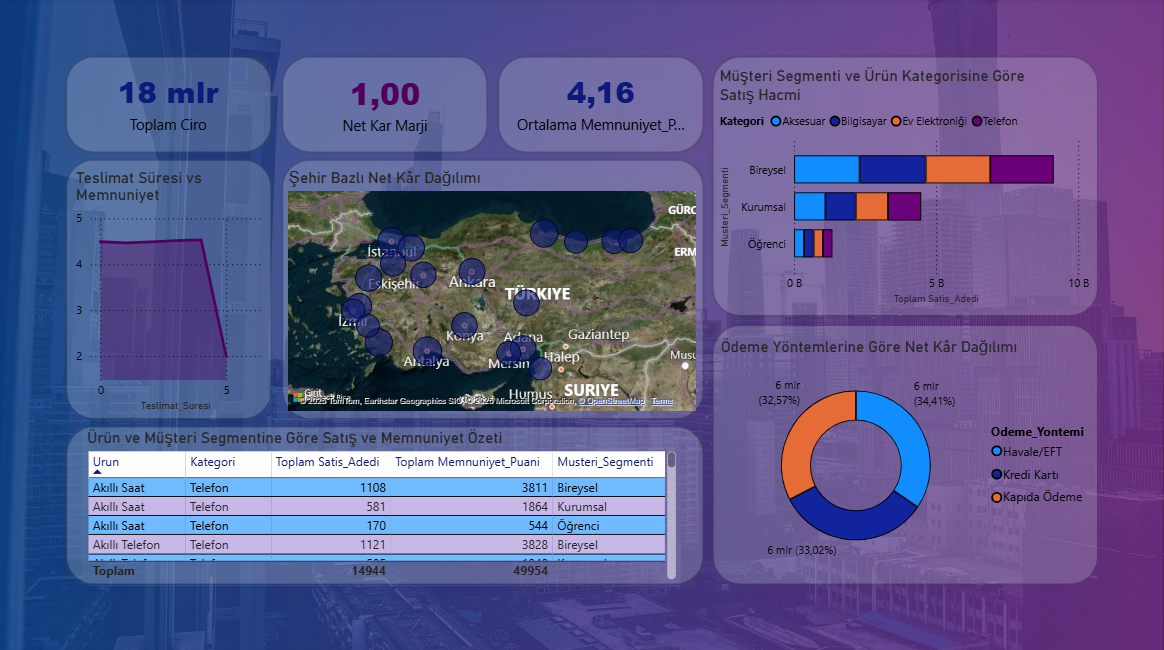

The page's visual inventory and layout, read from the dashboard file:
{"tool":"powerbi","page":{"name":"1. sayfa","canvas":[1280,720],"ordinal":0},"visuals":[{"type":"map","title":"Şehir Bazlı Net Kâr Dağılımı","fields":{"Category":["Musteriler.Sehir"],"Size":["Satislar.Net Kar"]},"box":[312.9,186.6,456.9,271.7],"z":0},{"type":"card","fields":{"Values":["Satislar.Toplam Ciro"]},"box":[91.9,74.1,188,81],"z":1000},{"type":"card","fields":{"Values":["Satislar.Net Kar Marji"]},"box":[322.5,75.5,203.1,79.6],"z":2000},{"type":"card","fields":{"Values":["Avg(Satislar.Memnuniyet_Puani)"]},"box":[561.2,74.1,199,81],"z":3000},{"type":"lineChart","title":"Teslimat Süresi vs Memnuniyet","fields":{"Category":["Satislar.Teslimat_Suresi"],"Y":["Avg(Satislar.Memnuniyet_Puani)"]},"box":[79.6,186.6,212.7,271.7],"z":4000},{"type":"barChart","title":"Müşteri Segmenti ve Ürün Kategorisine Göre Satış Hacmi","fields":{"Category":["Musteriler.Musteri_Segmenti"],"Y":["Sum(Satislar.Satis_Adedi)"],"Series":["Satislar.Kategori"]},"box":[786.3,74.1,415.8,267.6],"z":5000},{"type":"donutChart","title":"Ödeme Yöntemlerine Göre Net Kâr Dağılımı","fields":{"Category":["Satislar.Odeme_Yontemi"],"Y":["Satislar.Net Kar"]},"box":[787.7,371.9,425.4,262.1],"z":6000},{"type":"tableEx","title":"Ürün ve Müşteri Segmentine Göre Satış ve Memnuniyet Özeti","fields":{"Values":["Satislar.Urun","Satislar.Kategori","Sum(Satislar.Satis_Adedi)","Sum(Satislar.Memnuniyet_Puani)","Musteriler.Musteri_Segmenti"]},"box":[91.9,472,655.9,171.5],"z":7000}]}

Visuals, with their boxes in screenshot pixels (x1, y1, x2, y2), scaled from the page's 1280x720 canvas onto the 1164x650 screenshot:
"Şehir Bazlı Net Kâr Dağılımı" map: rect(285, 168, 700, 414)
card - Satislar.Toplam Ciro: rect(84, 67, 255, 140)
card - Satislar.Net Kar Marji: rect(293, 68, 478, 140)
card - Avg(Satislar.Memnuniyet_Puani): rect(510, 67, 691, 140)
"Teslimat Süresi vs Memnuniyet" lineChart: rect(72, 168, 266, 414)
"Müşteri Segmenti ve Ürün Kategorisine Göre Satış Hacmi" barChart: rect(715, 67, 1093, 308)
"Ödeme Yöntemlerine Göre Net Kâr Dağılımı" donutChart: rect(716, 336, 1103, 572)
"Ürün ve Müşteri Segmentine Göre Satış ve Memnuniyet Özeti" tableEx: rect(84, 426, 680, 581)
